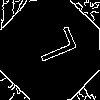L: (25, 25, 78, 68)
